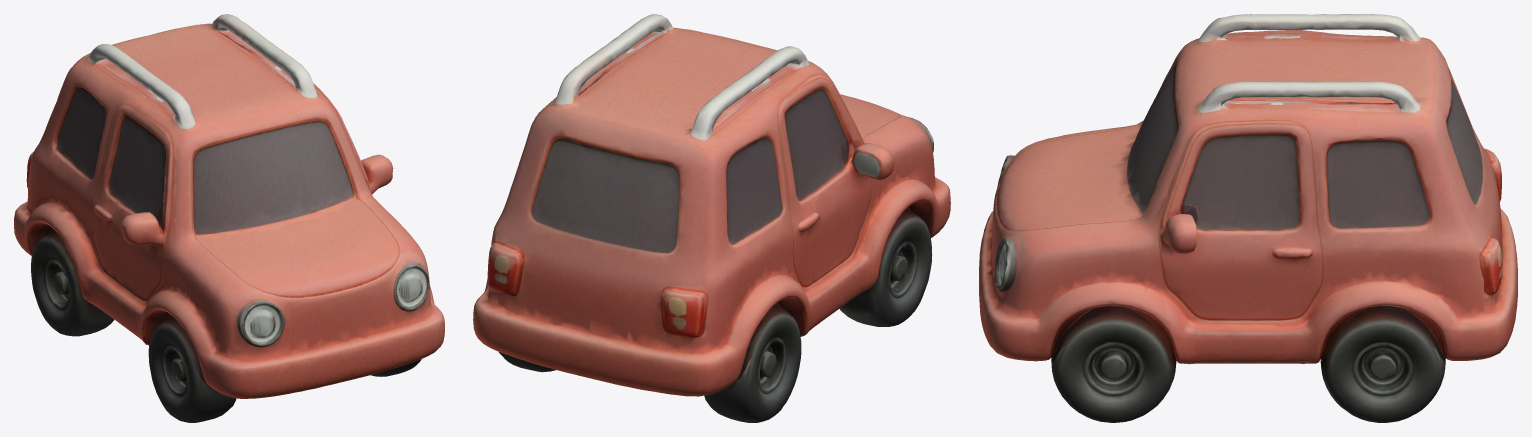
Rendered from Car_SUV.fbx.
The picture shows the model from 3 angles, left to right: view 1: azimuth 30°, elevation 25°; view 2: azimuth 150°, elevation 25°; view 3: azimuth 270°, elevation 25°; orthographic projection. The views are drawn at different scales.
Visible parts, largest first — view 1: texture_mapping; view 2: texture_mapping; view 3: texture_mapping.
Part boxes in pixels (left/top/right/bottom): texture_mapping: left=14, top=14, right=444, bottom=422; texture_mapping: left=473, top=14, right=950, bottom=422; texture_mapping: left=979, top=14, right=1517, bottom=422.
Size of the model in its own units: 0.6526 by 1 by 0.6465.
1 material, 1 textured.
